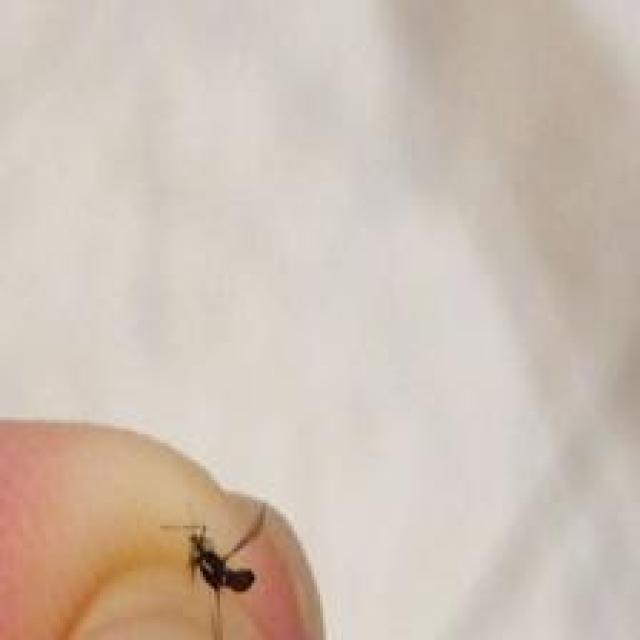Aedes albopictus: (160, 500, 269, 640)
